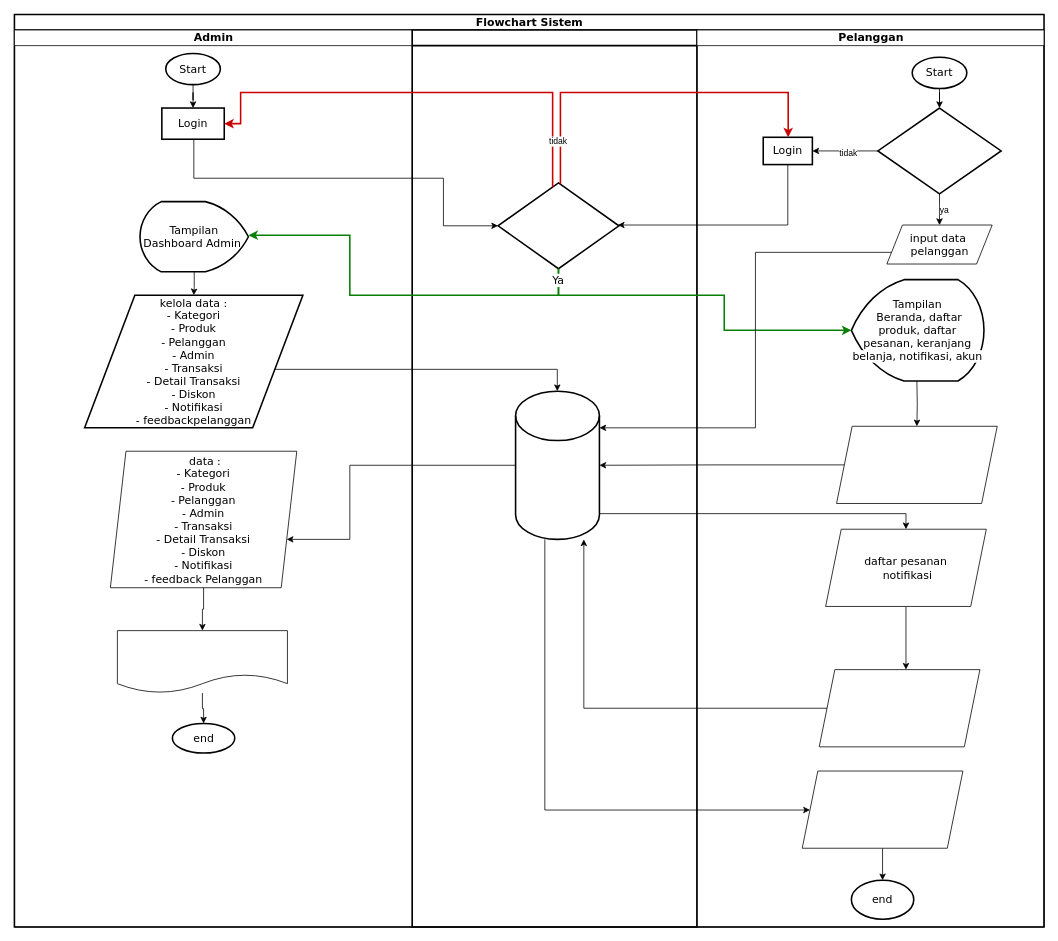
Image size: 1058x941. Some labels were removed from this diagram. The box of each missing label's shape, as (x1, y1, x2, y2) in pixels:
apakah anda pelanggan baru ?: (877, 107, 1002, 194)
data feedback: (801, 770, 963, 848)
Database: (514, 390, 600, 540)
feedback pelanggan: (818, 669, 980, 747)
Kelola data pelanggan, Tambah produk ke keranjang, checkout dan pembayaran: (836, 425, 997, 503)
Laporan: Transaksi, Laporan : produk terlaris: (117, 630, 287, 693)
Sistem: (411, 29, 697, 927)
username & password benar?: (497, 182, 619, 269)
